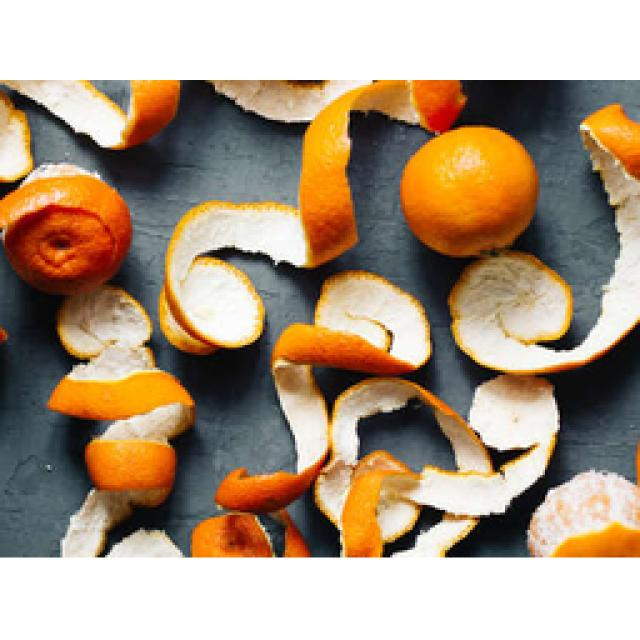food_waste: (158, 80, 638, 555), (0, 92, 192, 555), (0, 80, 178, 148), (528, 448, 638, 555)
